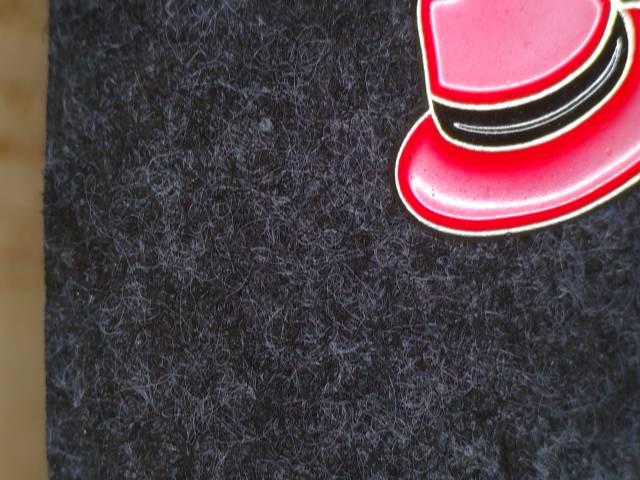Red-Hat: (381, 0, 640, 258)
